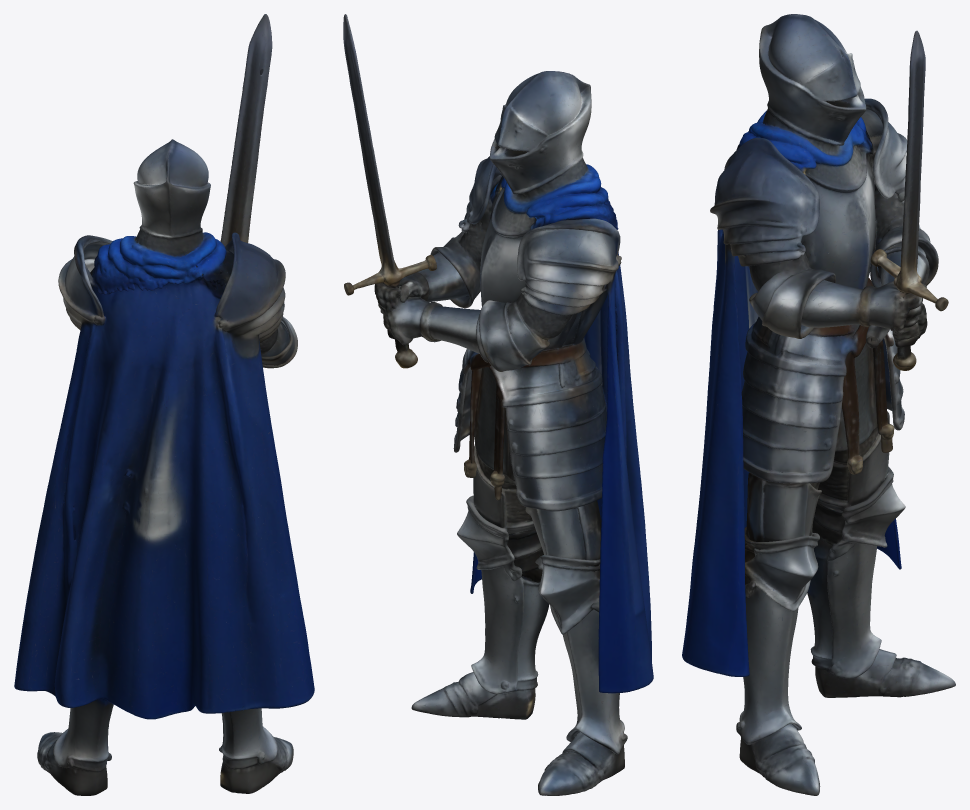
File: knight.glb
The picture shows the model from 3 angles, left to right: view 1: azimuth 30°, elevation 25°; view 2: azimuth 150°, elevation 25°; view 3: azimuth 270°, elevation 25°; orthographic projection. The views are drawn at different scales.
Bounding box in the file's own units: 0.3619 × 0.8767 × 0.2792.
1 material, 1 textured.
